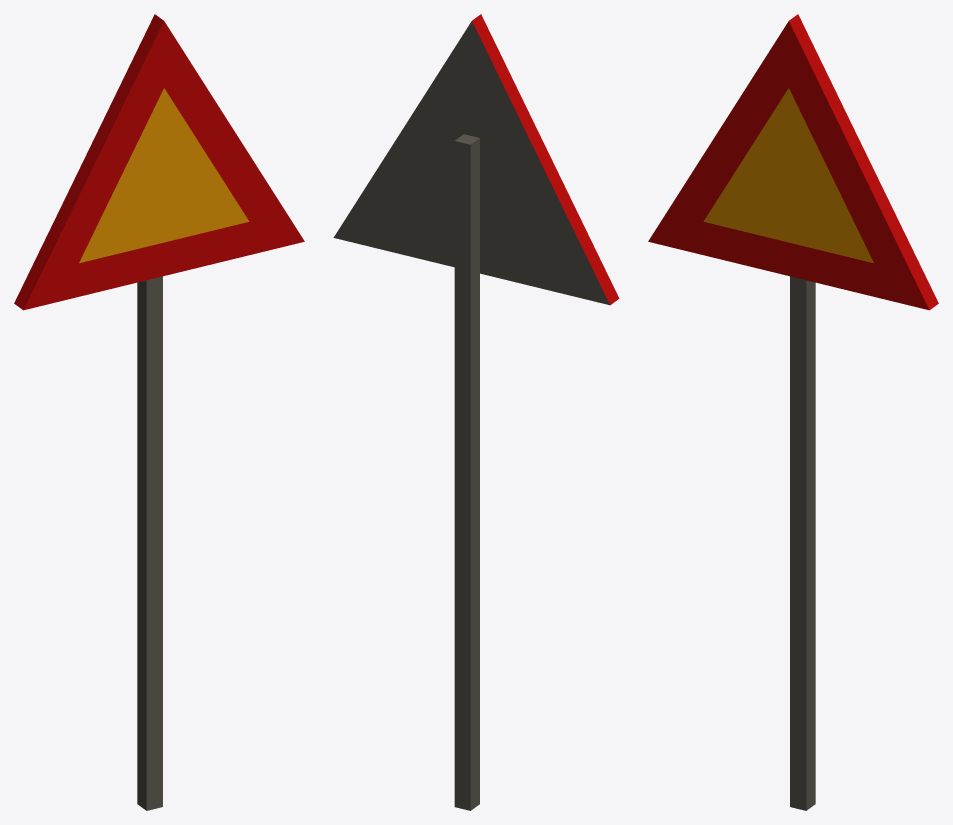
File: CitySignAttention.fbx
3 views of the same model, side by side, from view 1: azimuth 30°, elevation 25°; view 2: azimuth 150°, elevation 25°; view 3: azimuth 330°, elevation 25° (orthographic).
Parts seen in each view (by area): view 1: CitySignAttention; view 2: CitySignAttention; view 3: CitySignAttention.
Boxes of the visible parts, x1,y1,x2,y2 form: CitySignAttention: [14, 14, 304, 810]; CitySignAttention: [333, 14, 619, 810]; CitySignAttention: [648, 14, 938, 810].
Bounding box in the file's own units: 0.1567 × 0.4229 × 0.0181.
